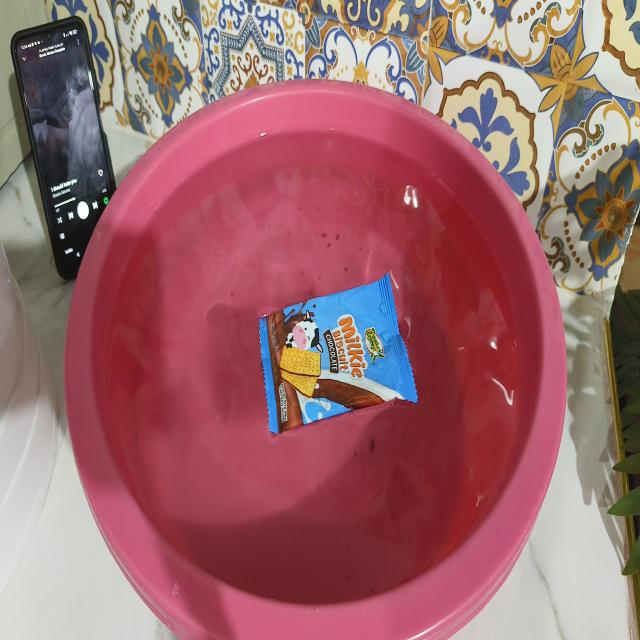Plastic Wrapper: (259, 273, 418, 433)
